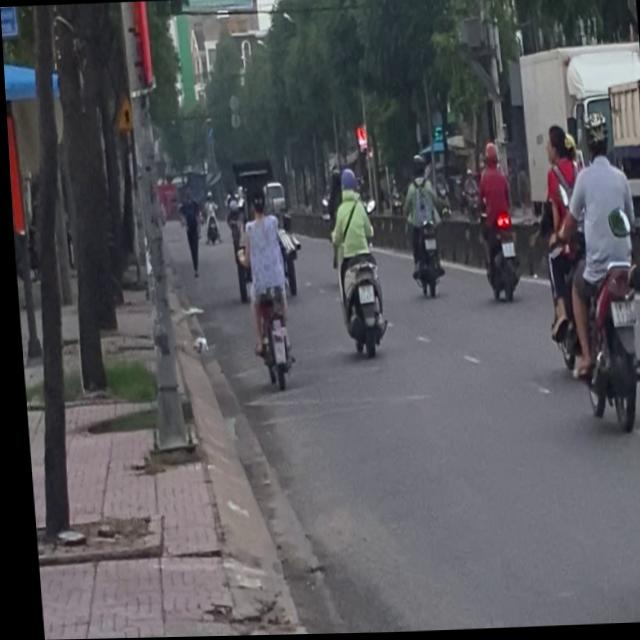helmet: (579, 112, 610, 164)
licenseplate: (545, 108, 640, 433)
motorcyclist: (542, 122, 573, 170)
nohelmet: (607, 303, 632, 326)
